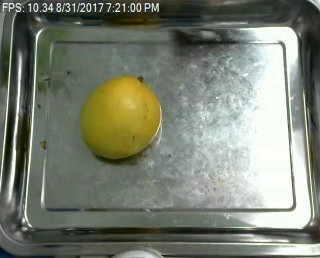Mango: (80, 76, 164, 158)
